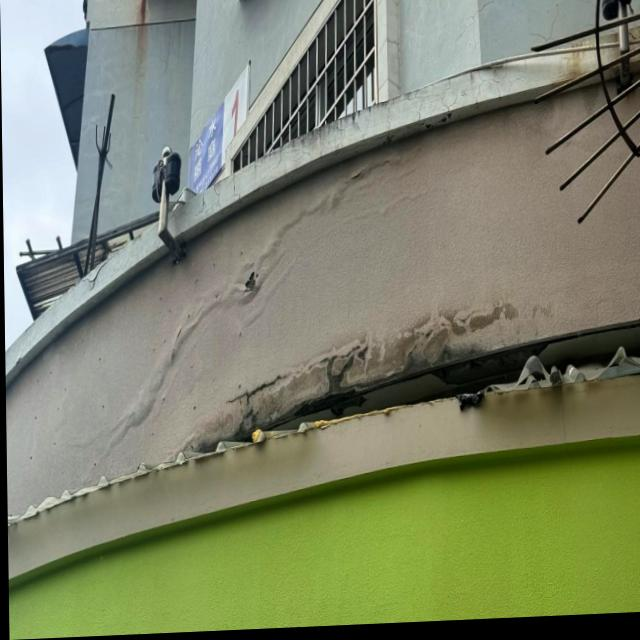crack: (74, 252, 121, 296)
hollowing: (71, 136, 431, 494), (155, 421, 199, 459)
mildew: (196, 294, 565, 446)
